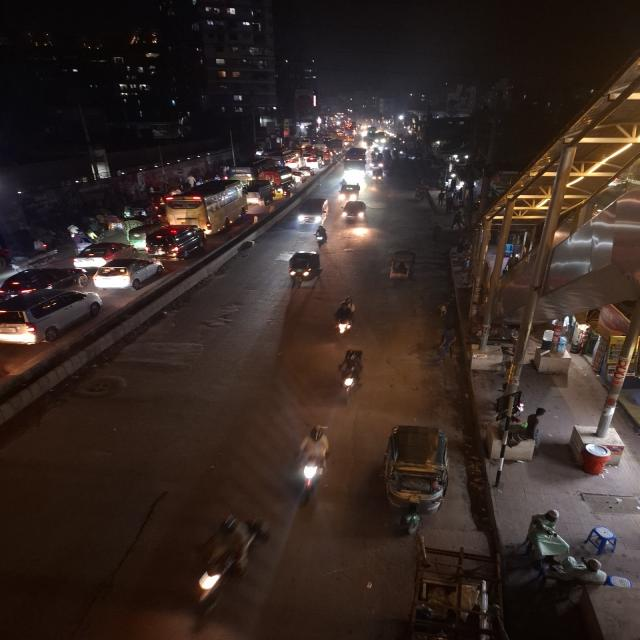bus: (163, 180, 246, 228), (342, 146, 368, 182)
car: (0, 287, 105, 349), (1, 265, 89, 297), (94, 256, 166, 292), (145, 225, 208, 258), (72, 240, 134, 268), (294, 196, 331, 225), (339, 199, 371, 225)
cng: (380, 422, 453, 540), (283, 249, 325, 290), (121, 200, 160, 224), (105, 213, 146, 233)
motorcycle: (294, 422, 333, 504), (337, 347, 368, 405), (331, 294, 358, 342), (312, 224, 331, 250)
pedestrian: (521, 507, 577, 591)
rickshaw: (381, 248, 420, 288), (410, 186, 432, 204)
truck: (244, 179, 275, 208), (265, 168, 293, 185)
